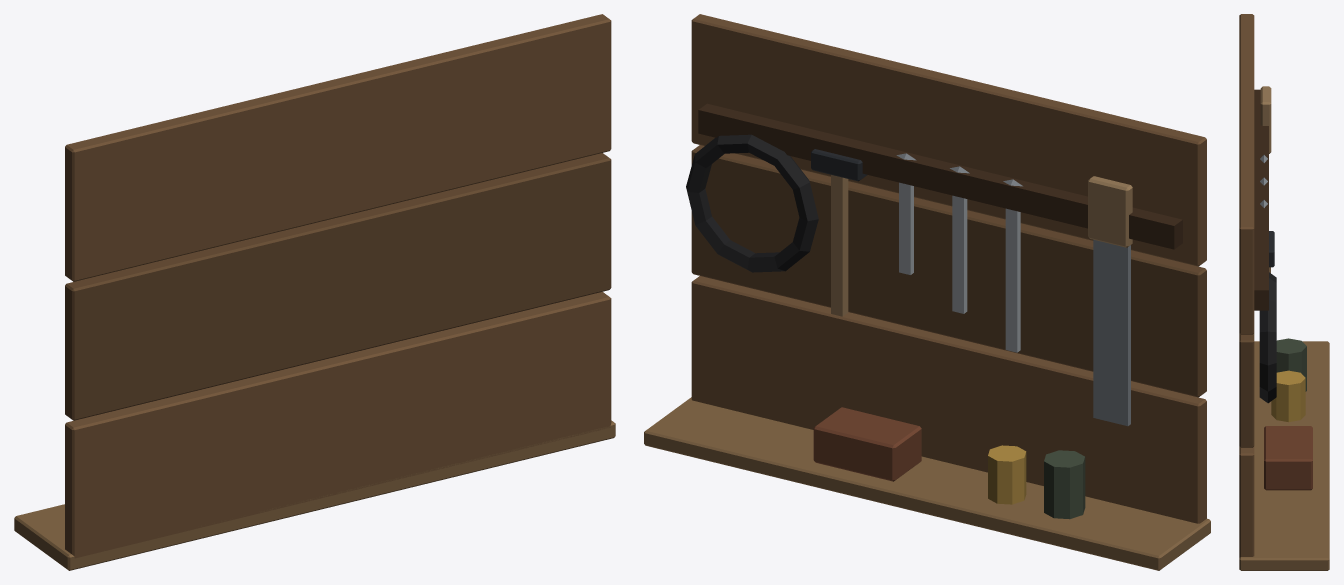
The model's file is prop_tool_rack.glb.
3 renders of one model, left to right at view 1: azimuth 30°, elevation 25°; view 2: azimuth 150°, elevation 25°; view 3: azimuth 270°, elevation 25°, orthographic. The views are drawn at different scales.
Visible parts, largest first — view 1: prop_tool_rack; view 2: prop_tool_rack; view 3: prop_tool_rack.
Part boxes in pixels (box(x1,y1,x2,y2)): prop_tool_rack: box(14, 14, 615, 570); prop_tool_rack: box(644, 14, 1210, 570); prop_tool_rack: box(1239, 14, 1329, 570).
Size of the model in its own units: 1.26 by 0.9225 by 0.22.
